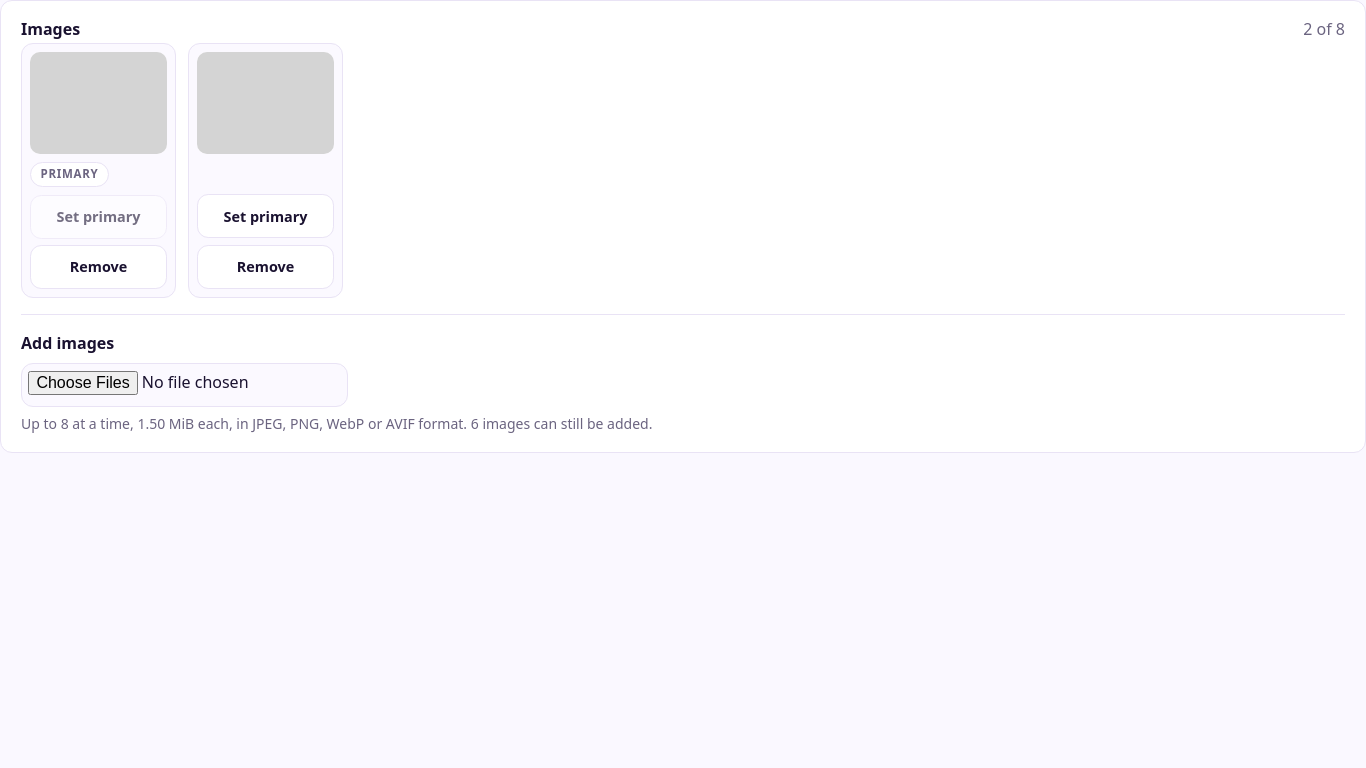
ProductImageManager › deleting an image › surfaces the zero-primary state that deleting the primary leaves behind
Click the 1st button "Remove" at coordinates (98, 267), box [30,245,167,289]
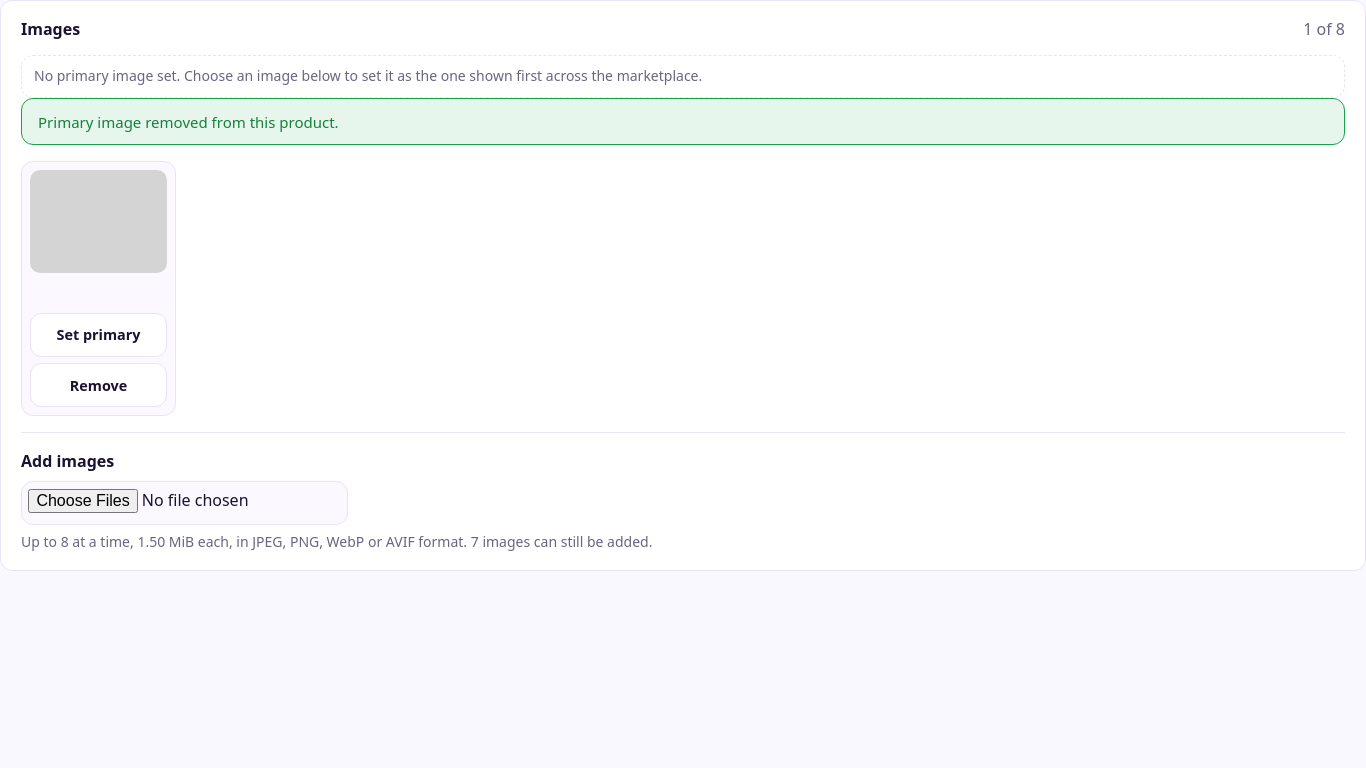
Result: the text "No primary image set" is shown at [34,66,702,85]
